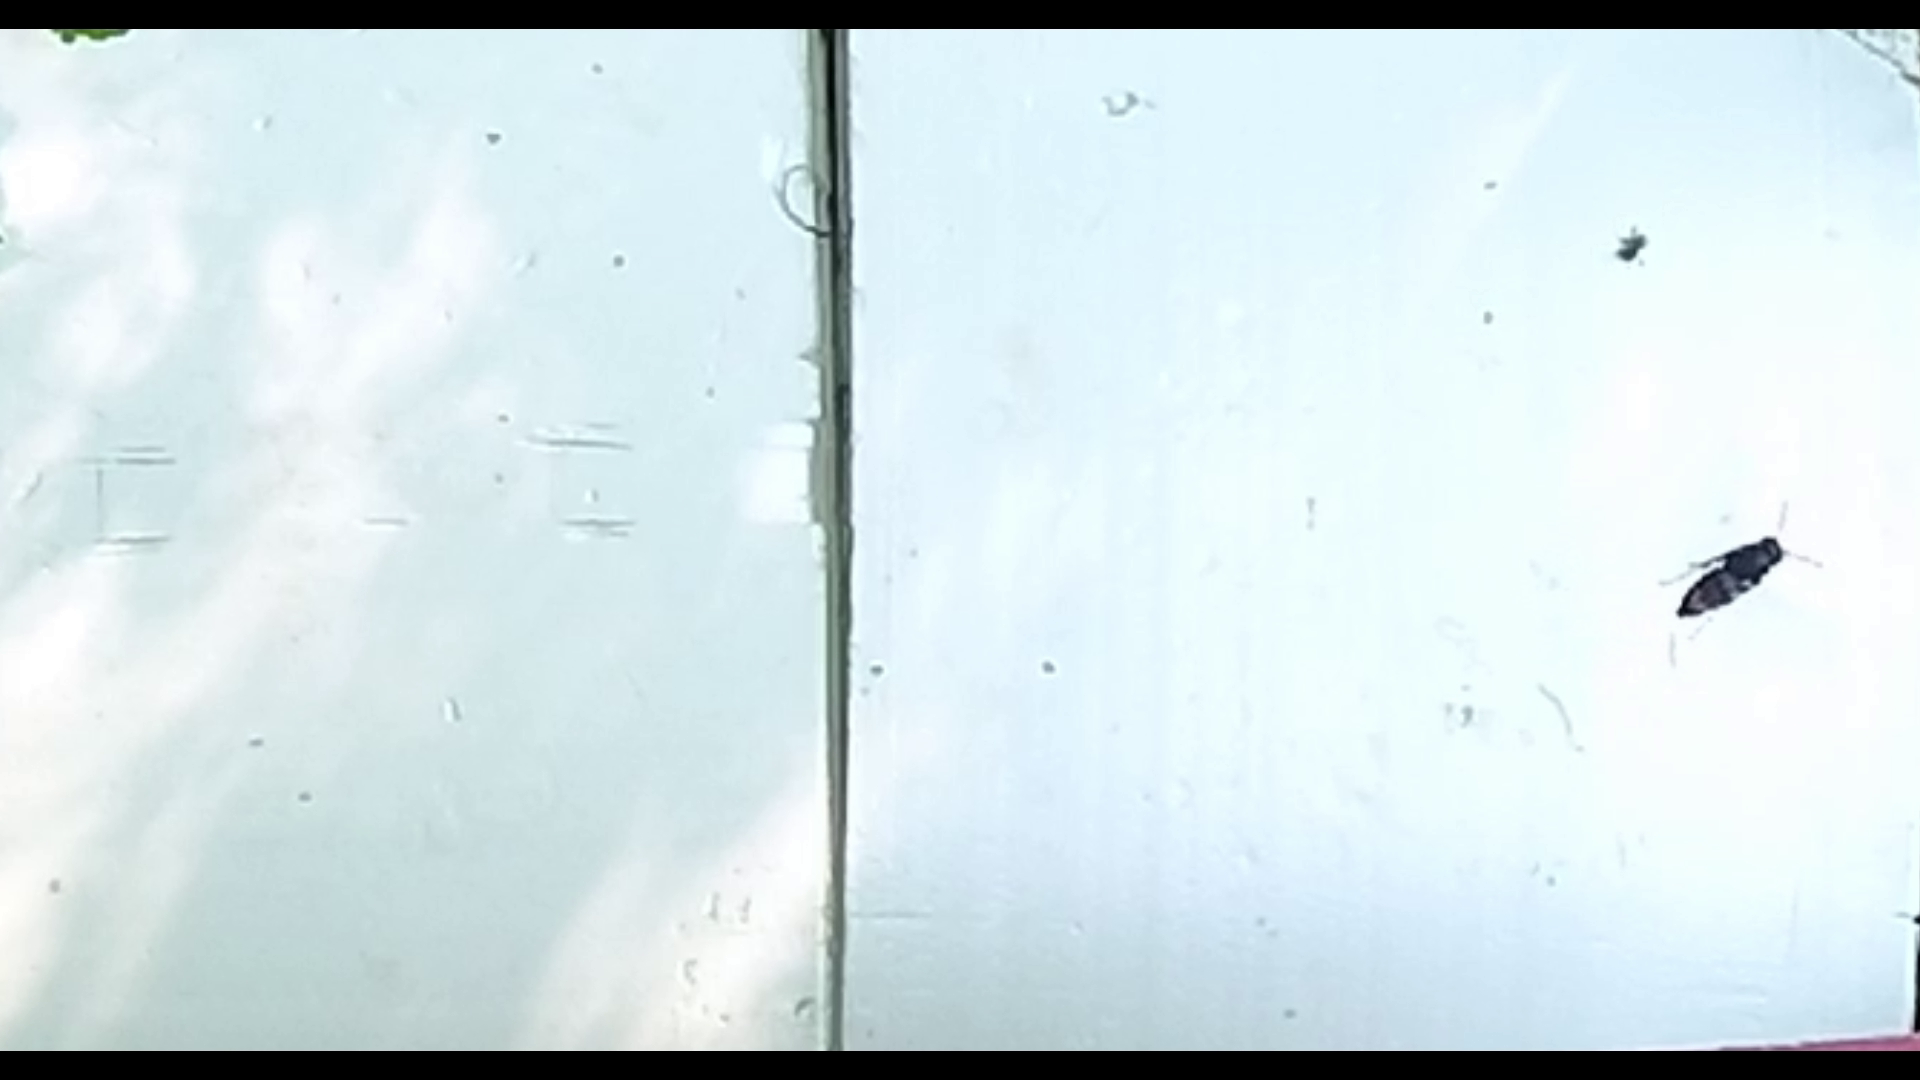Asian_hornets: (1639, 484, 1826, 653)
